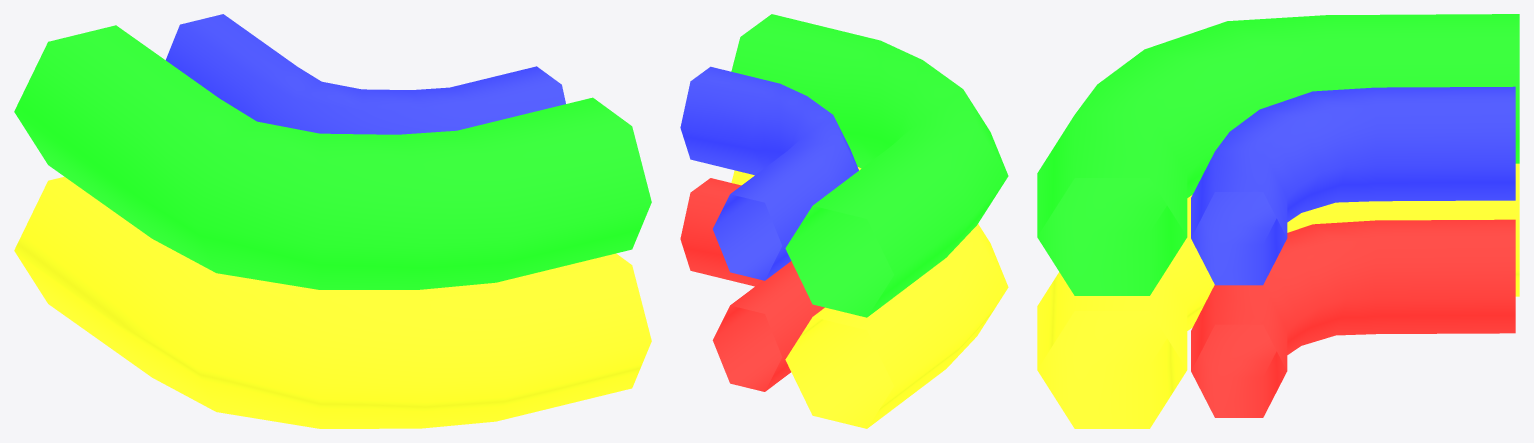
The model's file is Curva.fbx.
The picture shows the model from 3 angles, left to right: view 1: azimuth 30°, elevation 25°; view 2: azimuth 150°, elevation 25°; view 3: azimuth 270°, elevation 25°; orthographic projection. The views are drawn at different scales.
Parts seen in each view (by area): view 1: Cube; view 2: Cube; view 3: Cube.
Part boxes in pixels (box(x1,y1,x2,y2)): Cube: box(14, 14, 651, 428); Cube: box(680, 14, 1008, 428); Cube: box(1037, 14, 1519, 428).
Size of the model in its own units: 270 by 174 by 303.
